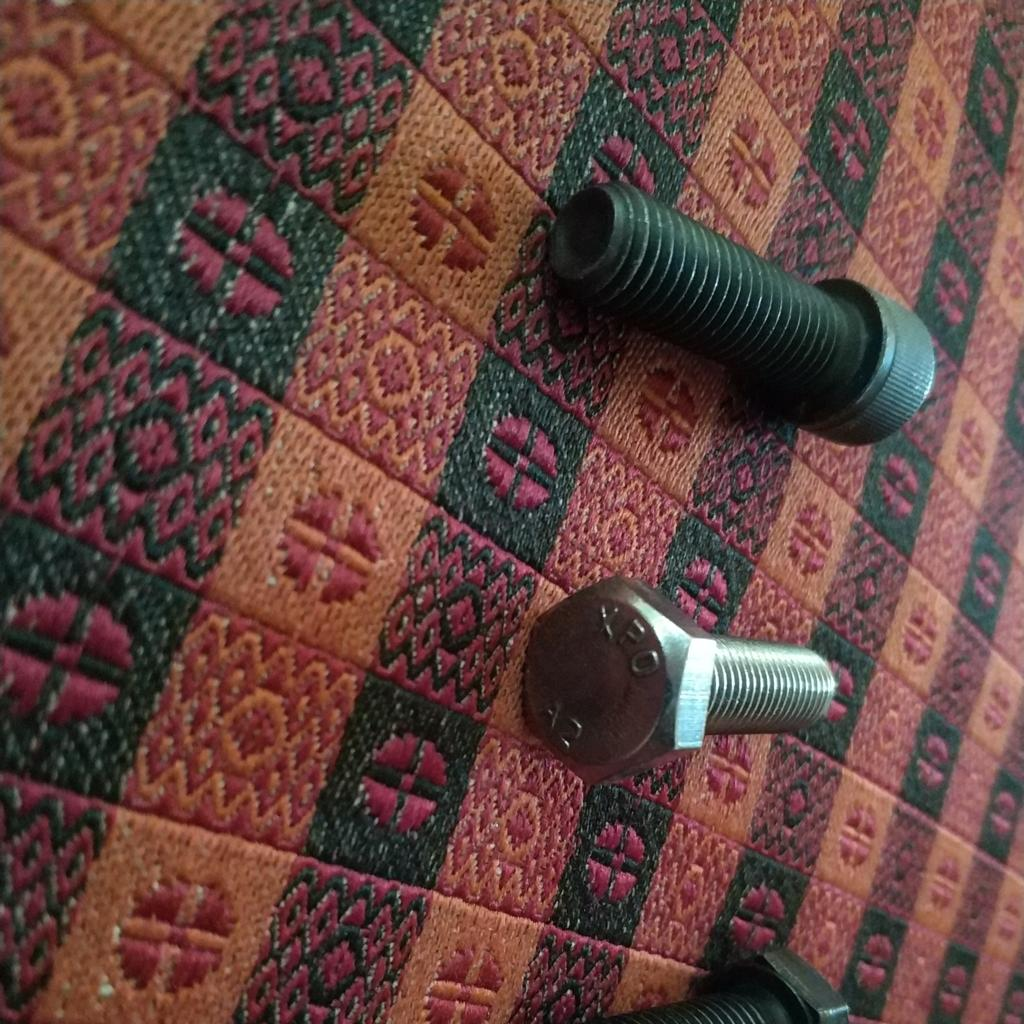screwtype1black: (542, 163, 938, 447)
screwtype2black: (432, 924, 860, 1024)
screwtype2silver: (506, 565, 842, 797)
